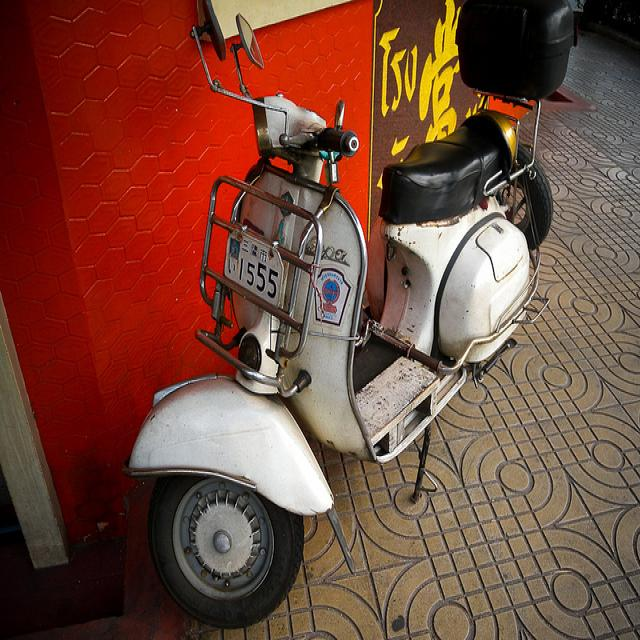motor: (119, 2, 581, 619)
